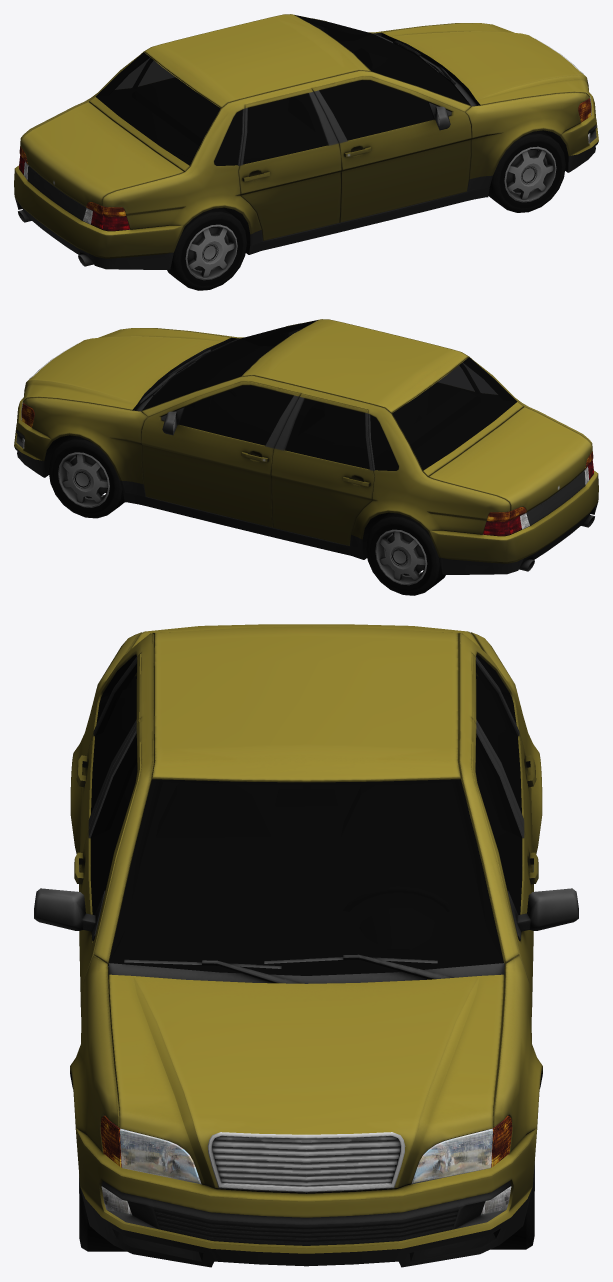
The model's file is CC6_sedan.gltf.
3 views of the same model, one above another, from view 1: azimuth 30°, elevation 25°; view 2: azimuth 150°, elevation 25°; view 3: azimuth 270°, elevation 25° (orthographic). The views are drawn at different scales.
Visible parts, largest first — view 1: Sedan Body, Sedan Body_Glass_0, Wheel_A003, Wheel_A002, Sedan Body_Optics_0; view 2: Sedan Body, Sedan Body_Glass_0, Wheel_A001, Wheel_A, Sedan Body_Optics_0; view 3: Sedan Body, Sedan Body_Glass_0, Sedan Body_Optics_0, Wheel_A002, Wheel_A.
Part boxes in pixels (x1,y1,x2,y2): Sedan Body: [14, 14, 598, 269]; Sedan Body_Glass_0: [95, 15, 470, 165]; Wheel_A003: [167, 208, 246, 290]; Wheel_A002: [488, 130, 565, 212]; Sedan Body_Optics_0: [19, 96, 591, 231]; Sedan Body: [14, 319, 598, 574]; Sedan Body_Glass_0: [142, 320, 517, 470]; Wheel_A001: [366, 513, 445, 595]; Wheel_A: [48, 436, 124, 518]; Sedan Body_Optics_0: [21, 401, 593, 536]; Sedan Body: [34, 624, 578, 1267]; Sedan Body_Glass_0: [90, 654, 522, 975]; Sedan Body_Optics_0: [100, 1115, 512, 1215]; Wheel_A002: [79, 1174, 126, 1251]; Wheel_A: [490, 1161, 534, 1249].
Bounding box in the file's own units: 4.91 × 1.51 × 2.18.
4 materials, 3 textured.
